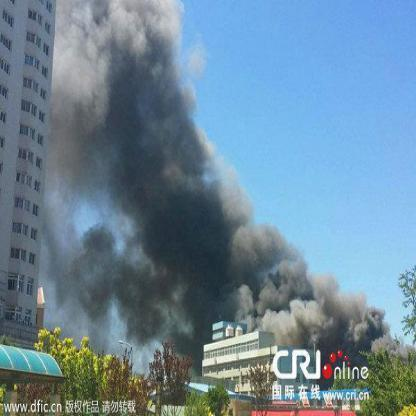smoke: (107, 175, 240, 265), (49, 92, 201, 170), (58, 3, 183, 86), (97, 268, 210, 342), (242, 246, 320, 340)
